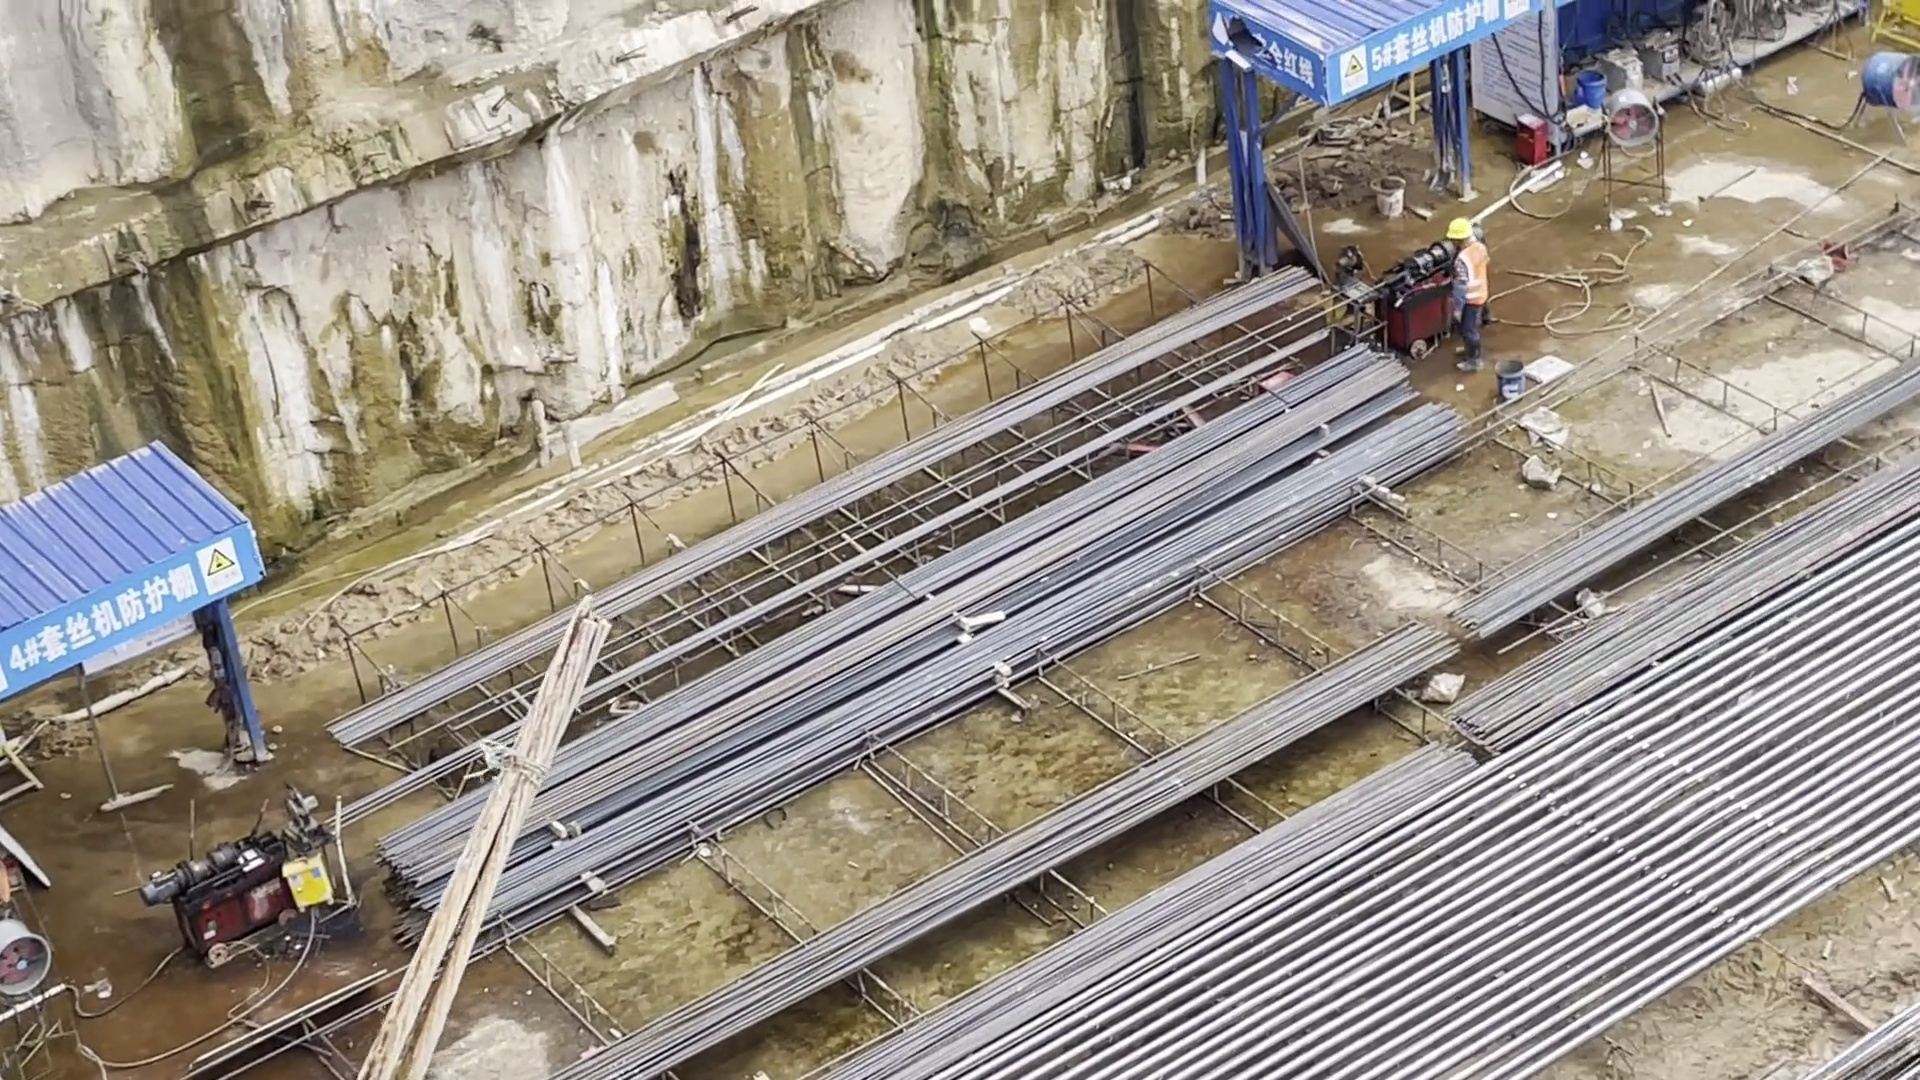helmet: (1444, 215, 1474, 242)
person: (1440, 215, 1500, 380)
rebar: (340, 250, 1912, 1080)
slogan: (10, 517, 254, 695), (1332, 1, 1536, 108)
vest: (1456, 245, 1487, 303)
